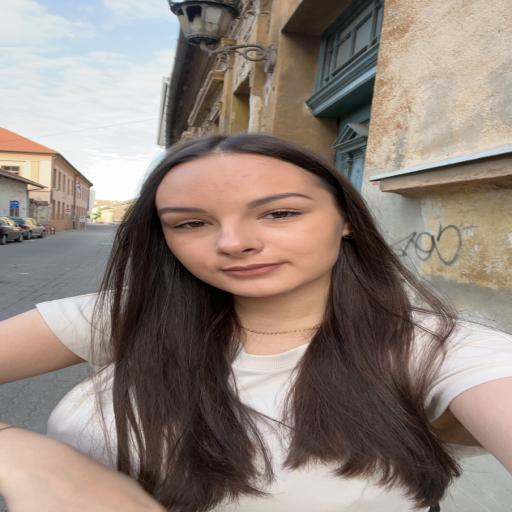marija: (156, 151, 342, 299)
